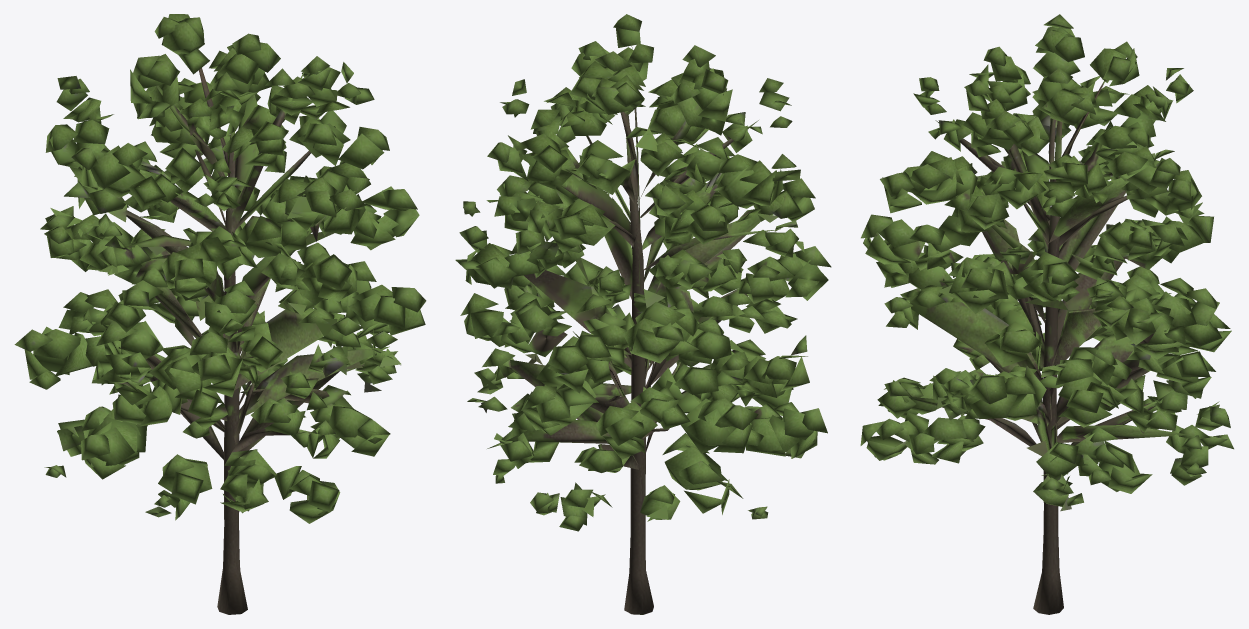
The model's file is linden.glb.
3 renders of one model, left to right at view 1: azimuth 30°, elevation 25°; view 2: azimuth 150°, elevation 25°; view 3: azimuth 270°, elevation 25°, orthographic. The views are drawn at different scales.
Size of the model in its own units: 0.6172 by 0.998 by 0.6113.
1 material, 1 textured.
